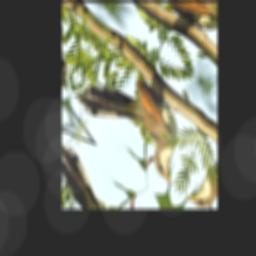Cuckoo: (75, 42, 197, 187)
